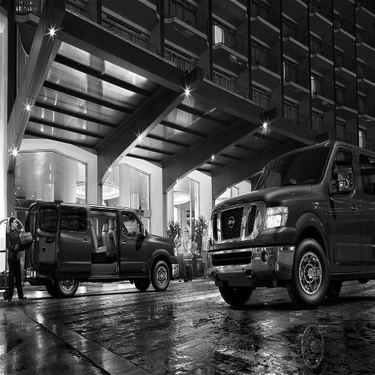car: (205, 132, 372, 315), (16, 194, 185, 304)
